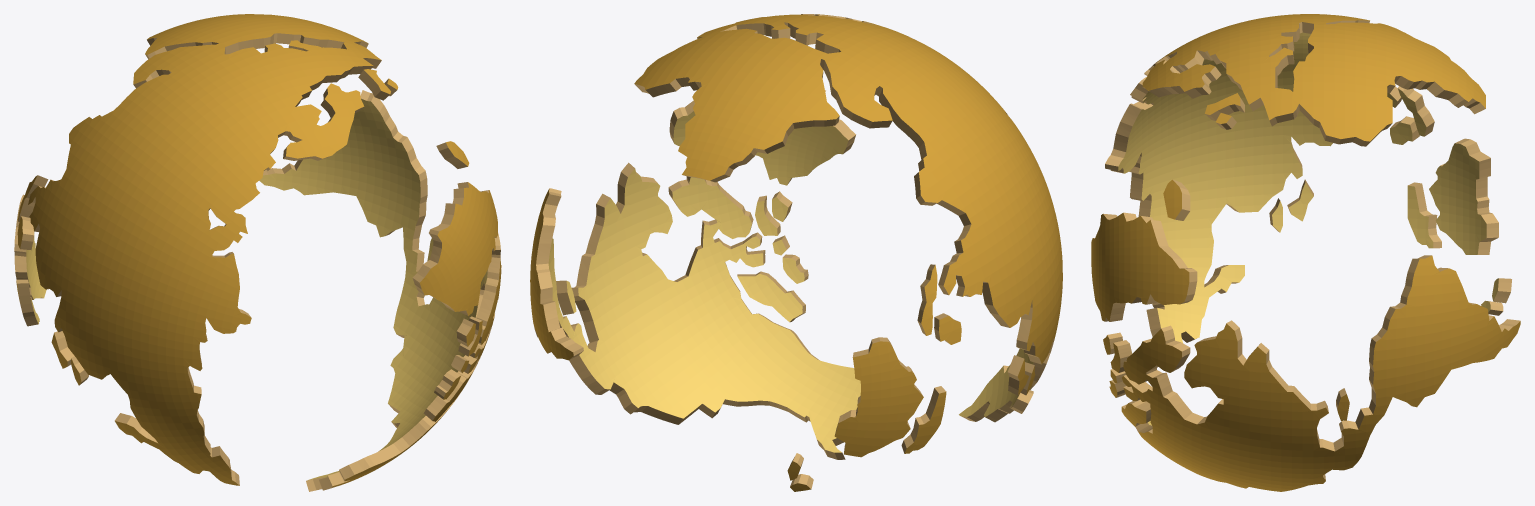
3 views of the same model, side by side, from view 1: azimuth 30°, elevation 25°; view 2: azimuth 150°, elevation 25°; view 3: azimuth 270°, elevation 25° (orthographic). The views are drawn at different scales.
Parts seen in each view (by area): view 1: _0; view 2: _0; view 3: _0.
Part boxes in pixels (x1,y1,x2,y2): _0: [14, 14, 501, 491]; _0: [530, 14, 1062, 491]; _0: [1091, 14, 1520, 491].
Size of the model in its own units: 8 by 7.78 by 7.15.
